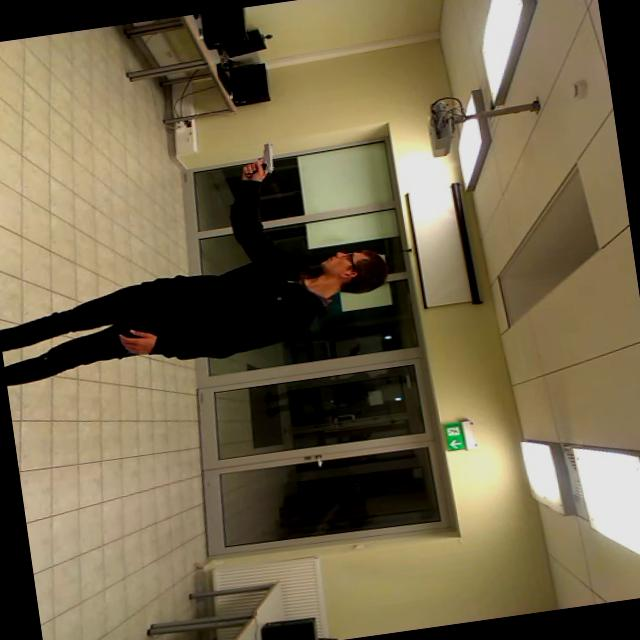handgun: (232, 135, 282, 189)
